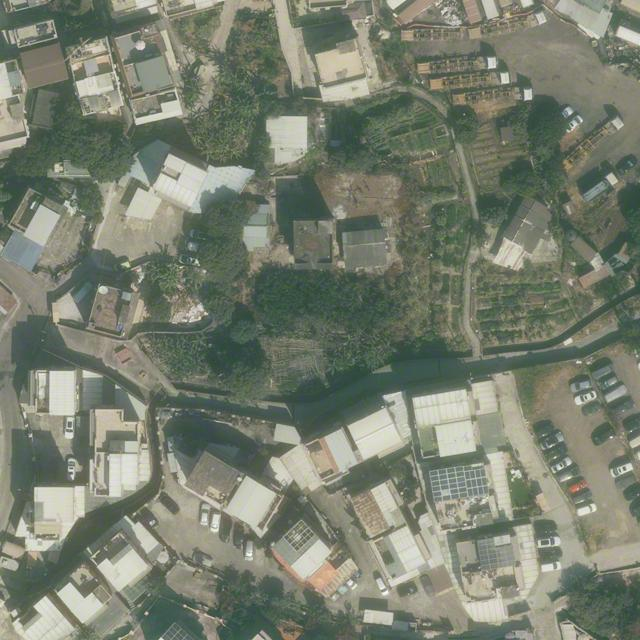panel: (430, 464, 489, 502), (477, 538, 516, 570), (283, 520, 316, 552), (162, 622, 194, 639)
